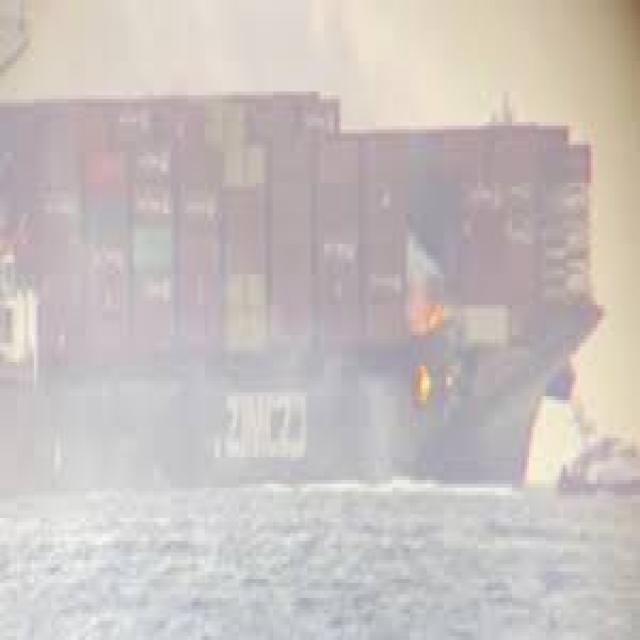cargoship: (0, 78, 601, 485)
